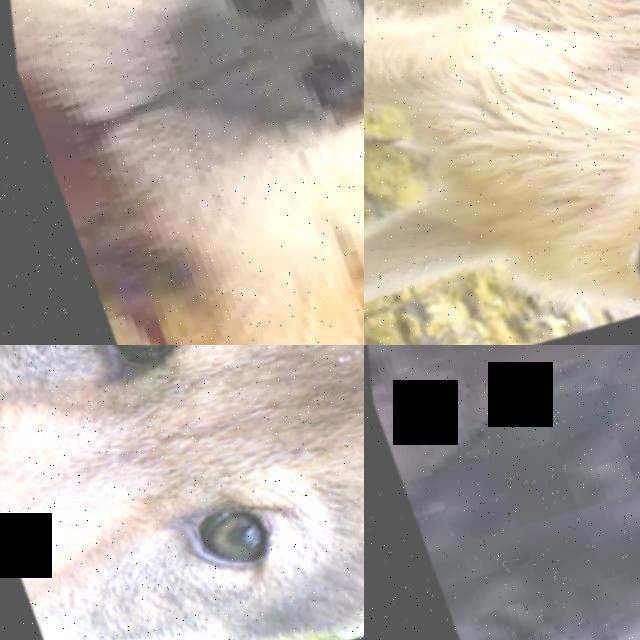dog: (0, 0, 364, 345), (364, 345, 640, 640), (364, 345, 640, 517)
wolf: (0, 345, 364, 640), (364, 0, 640, 345)
